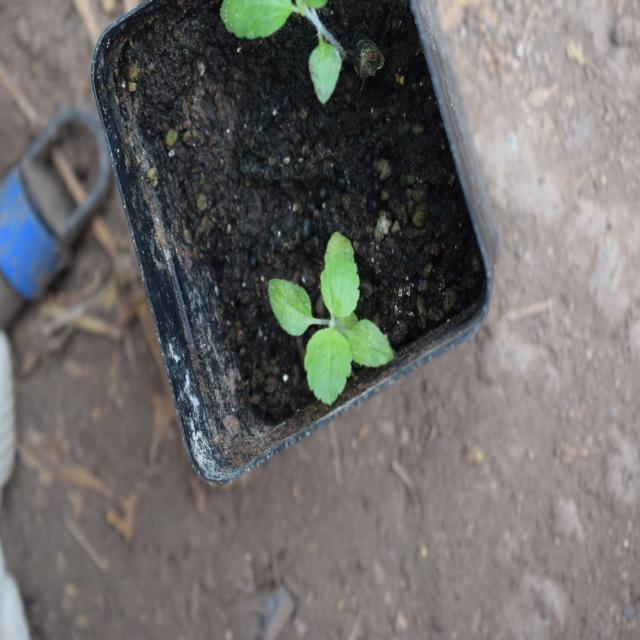billygoat_weed: (272, 239, 392, 422)
